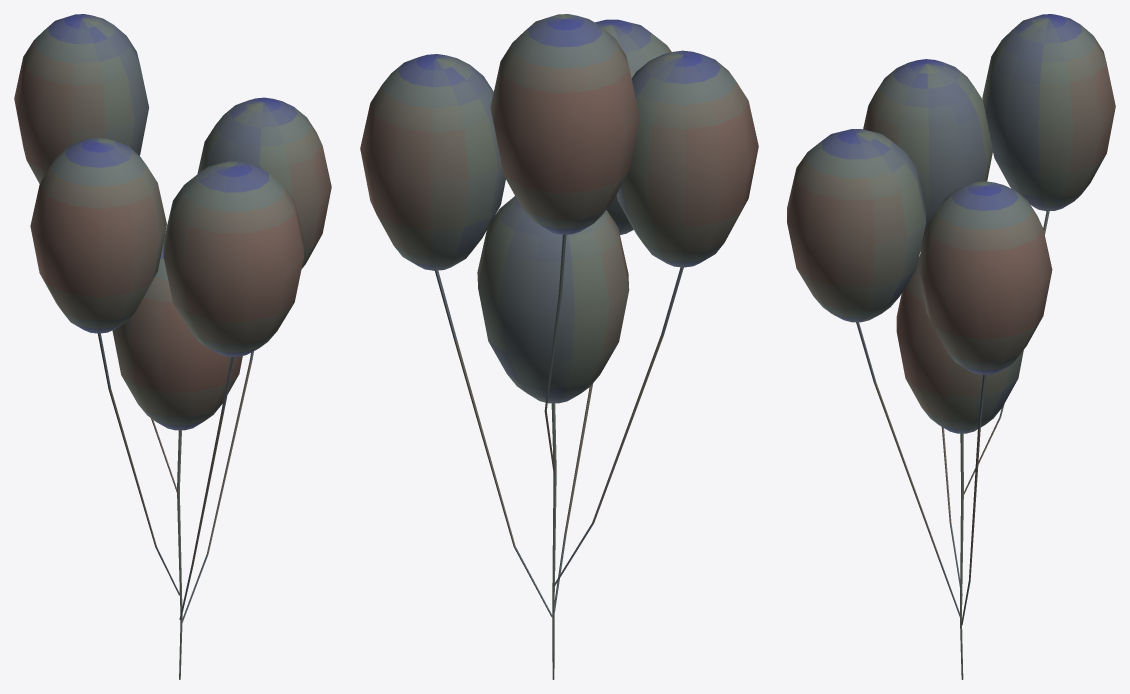
Rendered from balony.fbx.
3 renders of one model, left to right at view 1: azimuth 30°, elevation 25°; view 2: azimuth 150°, elevation 25°; view 3: azimuth 270°, elevation 25°, orthographic. The views are drawn at different scales.
Parts seen in each view (by area): view 1: Sphere; view 2: Sphere, Mesh; view 3: Sphere.
Boxes of the visible parts, bbox=[...] form: Sphere: bbox=[14, 14, 331, 679]; Sphere: bbox=[360, 14, 758, 679]; Mesh: bbox=[544, 234, 566, 475]; Sphere: bbox=[787, 14, 1115, 679].
Bounding box in the file's own units: 54.23 × 107 × 49.96.
